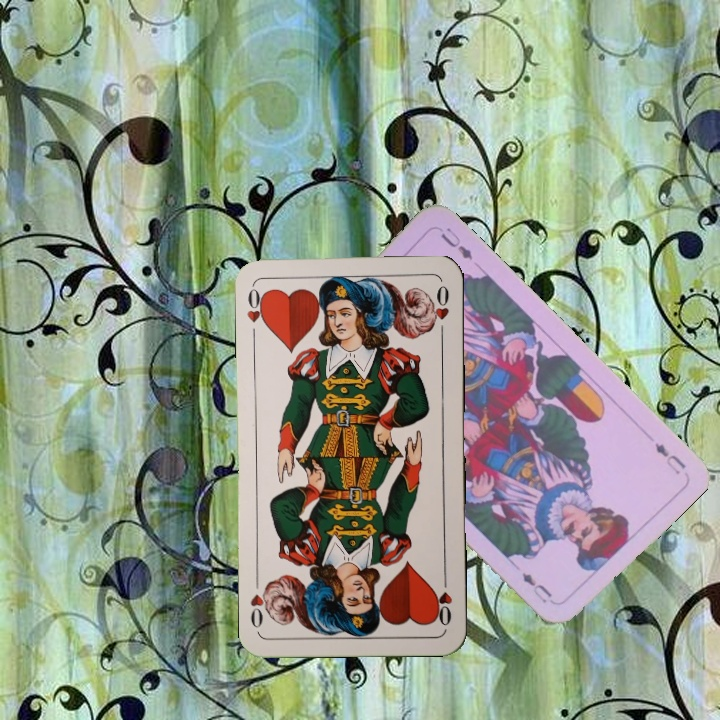EU: (650, 438, 689, 478)
HO: (243, 283, 269, 342), (431, 570, 455, 629)
